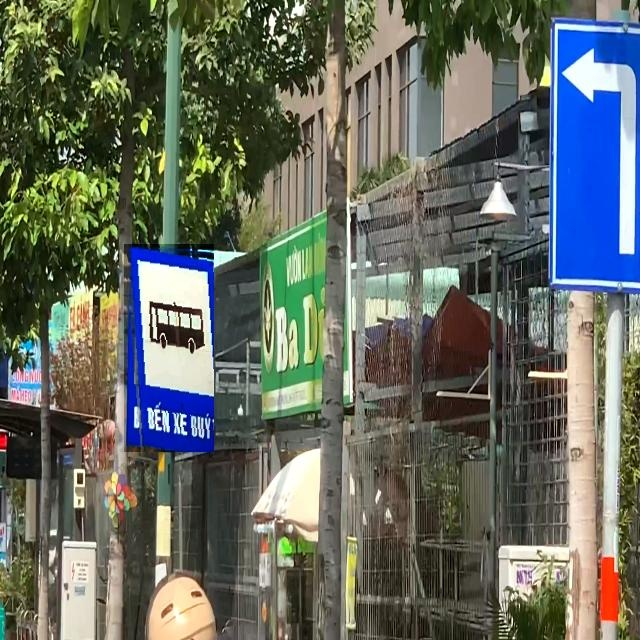bien_cam: (124, 244, 214, 452)
